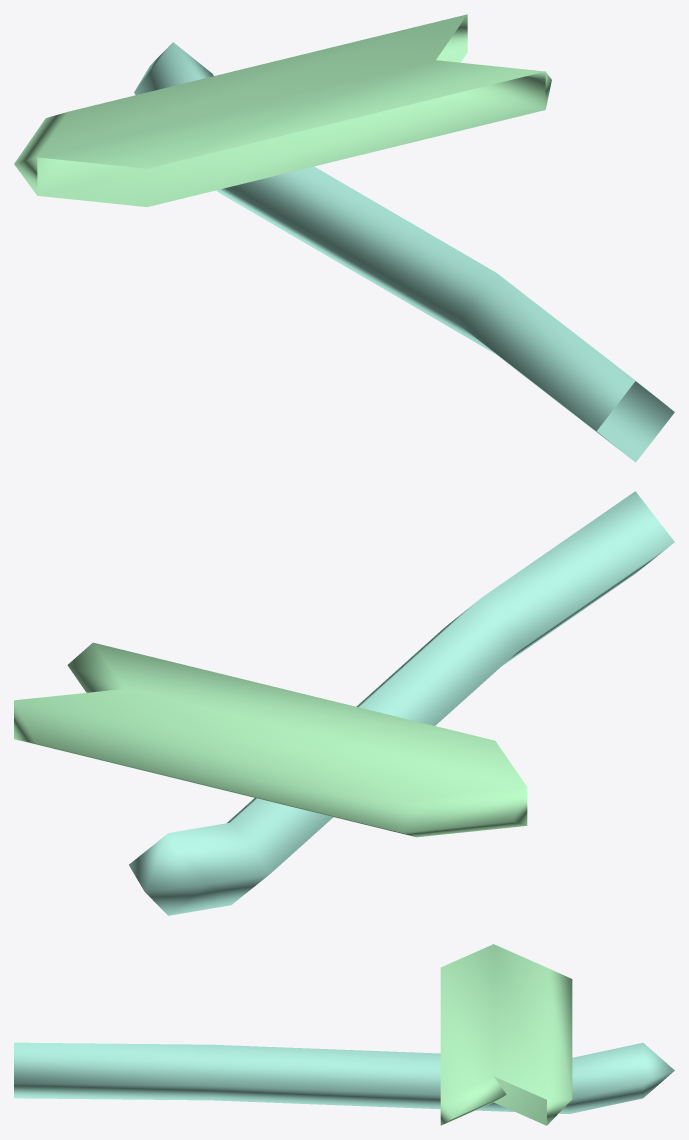
The picture shows the model from 3 angles, top to bottom: view 1: azimuth 30°, elevation 25°; view 2: azimuth 150°, elevation 25°; view 3: azimuth 270°, elevation 25°; orthographic projection. The views are drawn at different scales.
Parts seen in each view (by area): view 1: Object60; view 2: Object60; view 3: Object60.
Boxes of the visible parts, x1=… form: Object60: x1=14, y1=14, x2=674, y2=462; Object60: x1=14, y1=491, x2=674, y2=915; Object60: x1=14, y1=944, x2=674, y2=1125.
Size of the model in its own units: 10285 by 2694 by 17679.
